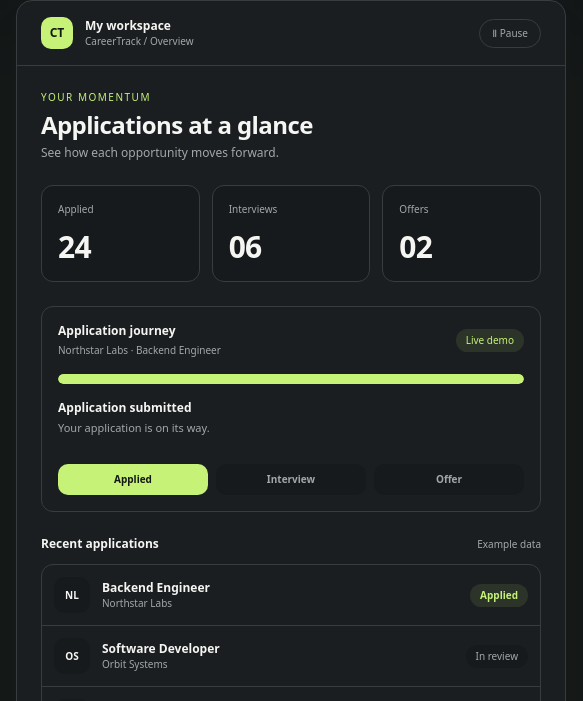
Test: LandingPreview › pauses and resumes automatic transitions
Click the button with aria-label "Pause demo" at (510, 33), box [479,18,541,48]
Wait 6400 ms
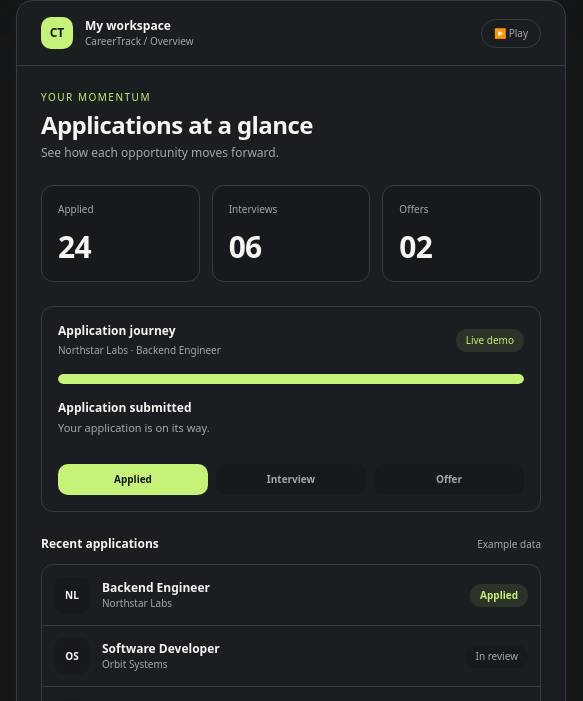
Expected: the text with test id "demo-current-status" reads "Applied", [480,588,518,602]
Click the button with aria-label "Play demo" at (511, 33), box [481,18,541,48]
Wait 3200 ms
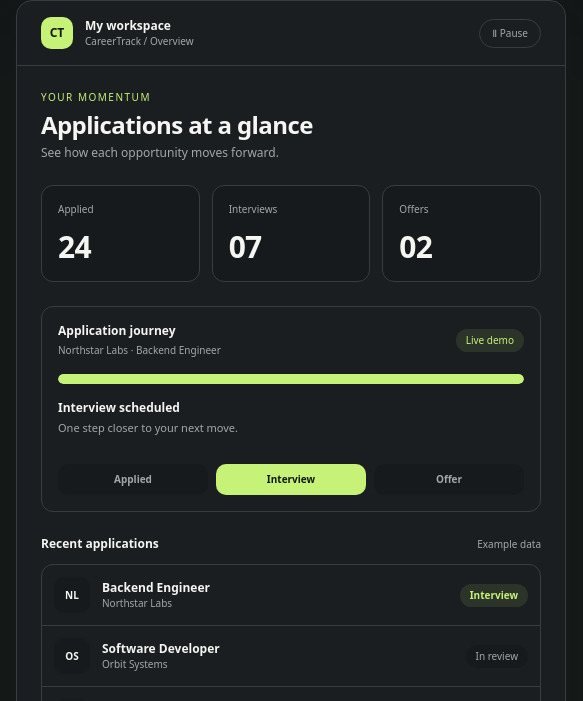
Result: the text with test id "demo-current-status" reads "Interview" at [470,588,518,602]
